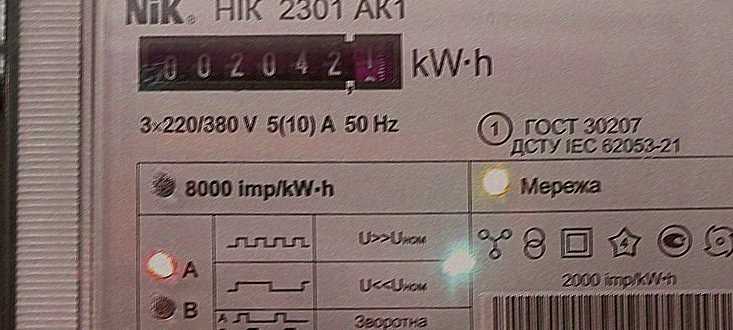0: (160, 51, 179, 82), (259, 48, 278, 78), (194, 50, 212, 81)
1: (361, 41, 375, 72)
2: (227, 50, 246, 79), (325, 48, 342, 77)
4: (292, 45, 310, 78)
screen: (132, 26, 408, 104)
